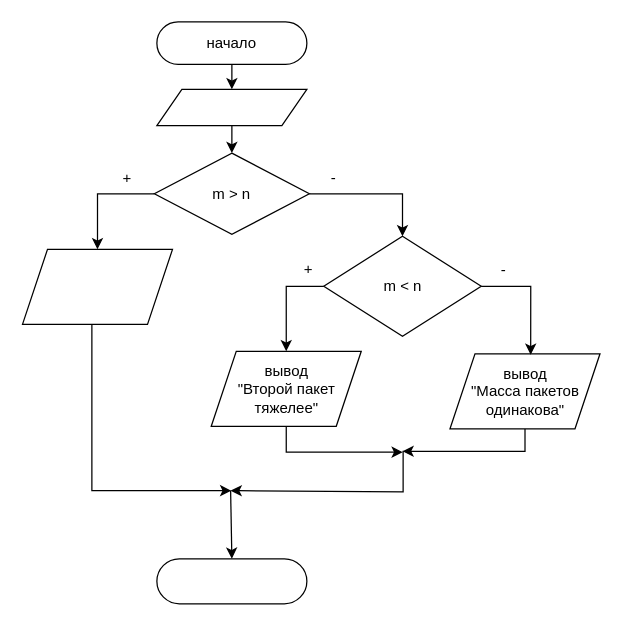
Image size: 621x626. Some labels were removed from this diagram. Each missing label, with the box of its shape:
ввод m, n: (156, 88, 307, 126)
вывод "Первый пакет тяжелее": (21, 248, 172, 324)
конец: (156, 558, 307, 604)
